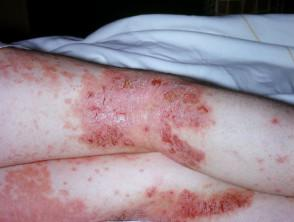Eczema: (0, 50, 50, 73), (59, 191, 94, 222), (12, 170, 51, 197), (154, 122, 184, 154), (213, 186, 247, 214), (180, 89, 213, 117), (104, 124, 136, 151), (179, 110, 210, 137), (28, 64, 72, 83), (61, 152, 100, 173), (177, 148, 210, 172), (103, 72, 137, 95), (140, 73, 175, 95), (80, 87, 103, 120), (0, 204, 41, 222), (83, 126, 109, 152), (140, 181, 167, 206), (151, 105, 183, 126), (176, 184, 201, 210), (157, 87, 184, 111), (101, 207, 143, 222), (190, 200, 221, 219), (1, 148, 29, 169), (133, 99, 162, 117), (253, 151, 270, 181), (75, 63, 97, 86), (105, 105, 133, 123), (264, 111, 284, 136), (137, 121, 156, 138)
